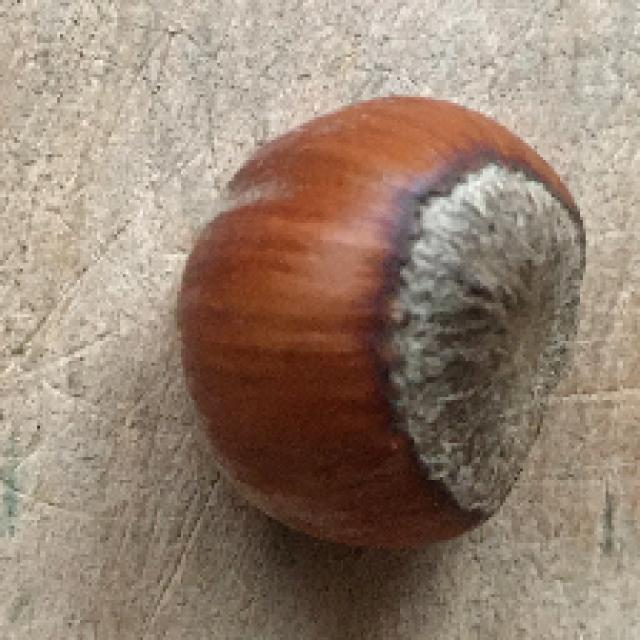qualityHazelnut: (162, 91, 588, 557)
